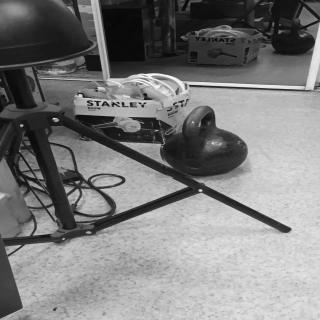kettlebell: (159, 106, 251, 178)
